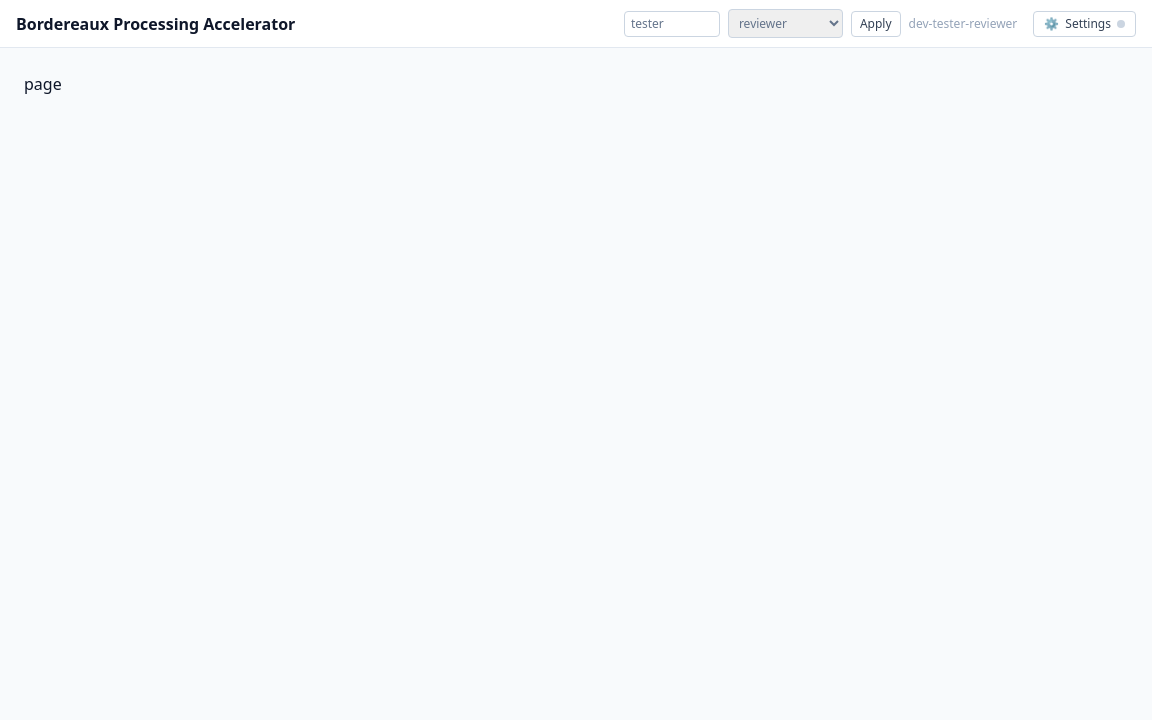
Settings -> AI connection › explains a rejected key and does not claim it was saved
Click the button "⚙ Settings".
click(1085, 24)  # box [1033,10,1136,36]
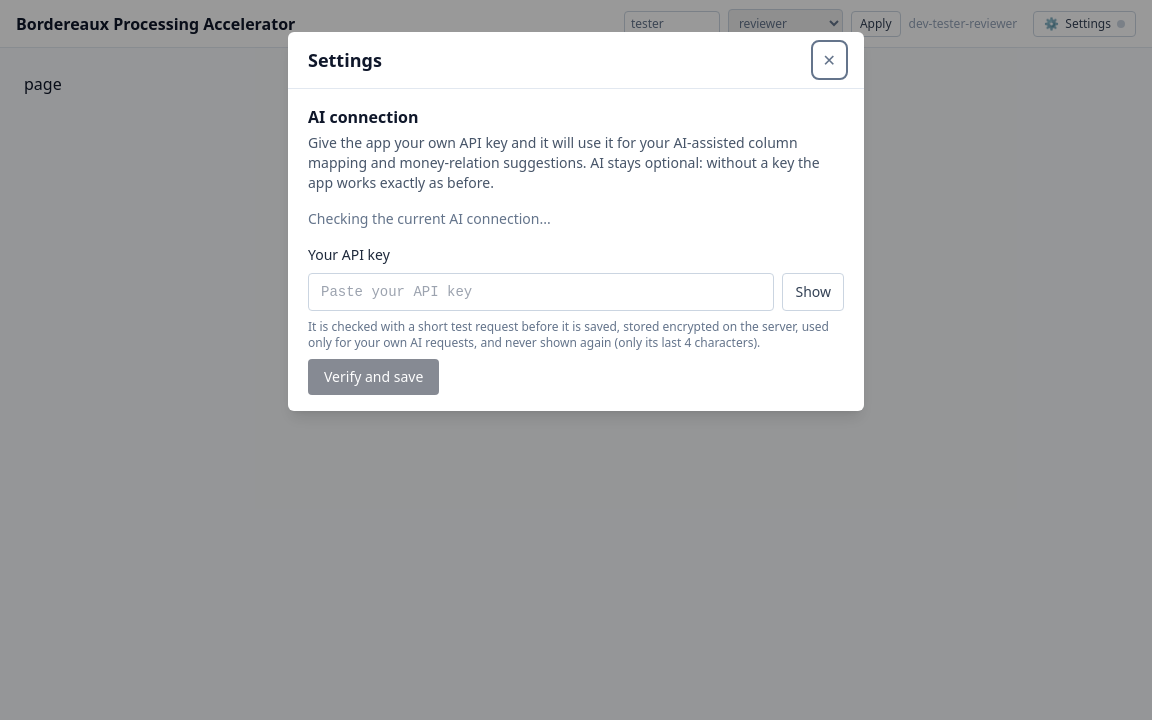
Type "bad-key-12345678" into the password field labelled "Your API key".
click(541, 292); type("bad-key-12345678")  # box [308,273,774,311]
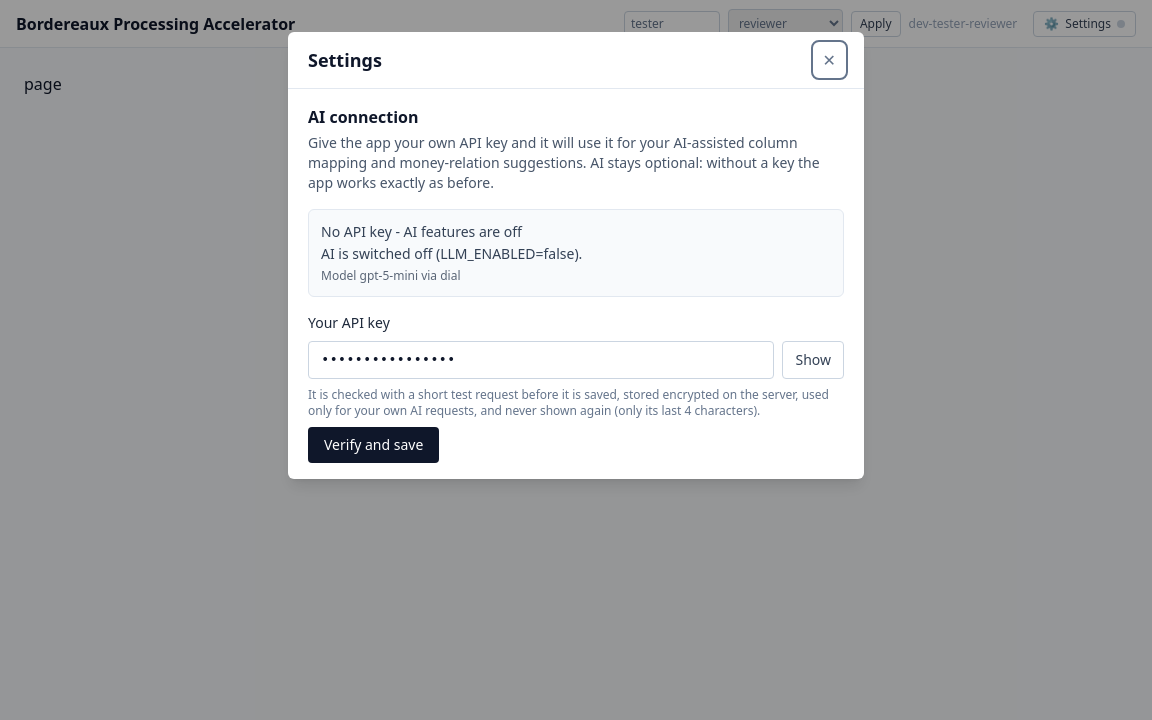
Click the button "Verify and save".
click(374, 445)  # box [308,427,439,463]
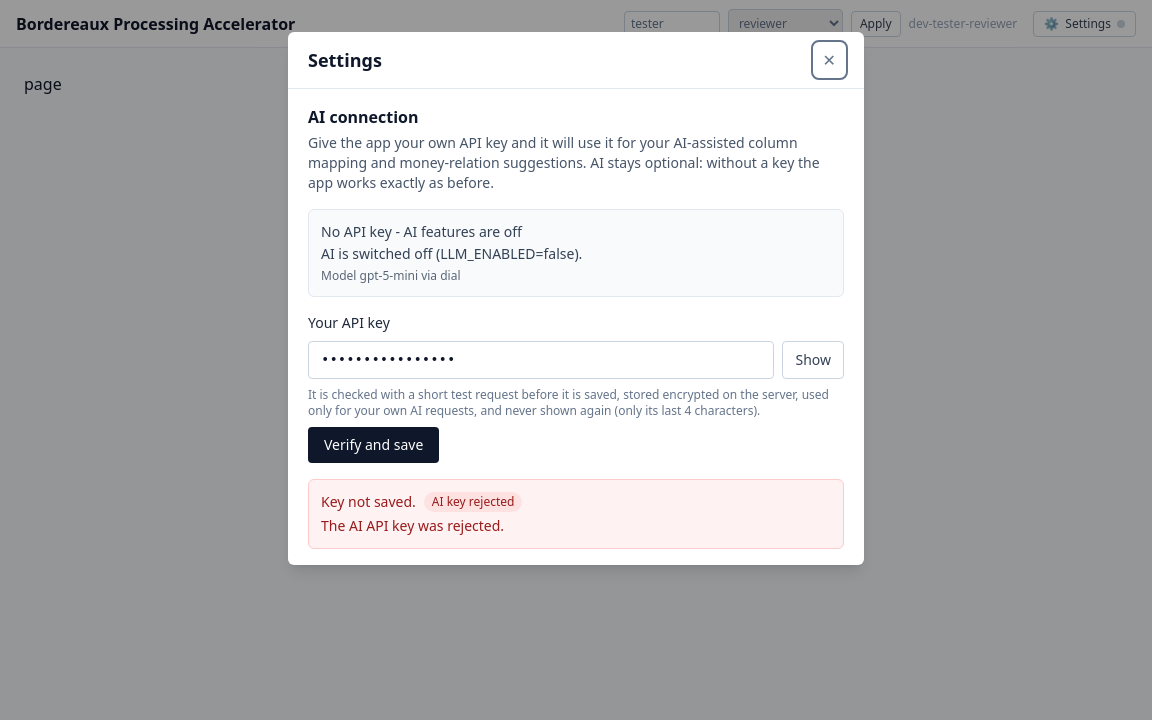
Result: the text "Key not saved." is shown at [321,492,416,512]
Result: the text "The AI API key was rejected." is shown at [321,516,504,535]
Result: the text "AI key rejected" is shown at [424,492,522,512]
